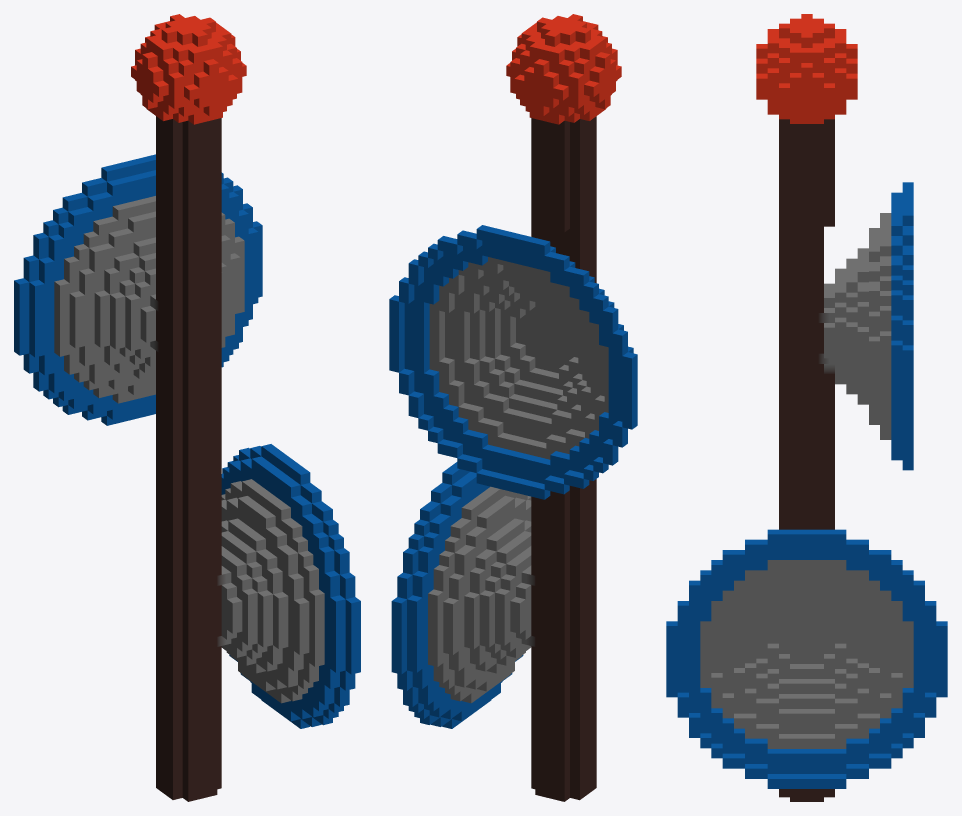
The model's file is Lab-3-Antenna.fbx.
3 renders of one model, left to right at view 1: azimuth 30°, elevation 25°; view 2: azimuth 150°, elevation 25°; view 3: azimuth 270°, elevation 25°, orthographic.
Parts seen in each view (by area): view 1: Antenna; view 2: Antenna; view 3: Antenna.
Boxes of the visible parts, left/top/right/bottom form: Antenna: left=14, top=14, right=360, bottom=801; Antenna: left=389, top=14, right=637, bottom=801; Antenna: left=666, top=14, right=947, bottom=801.
Bounding box in the file's own units: 25 × 75 × 25.
